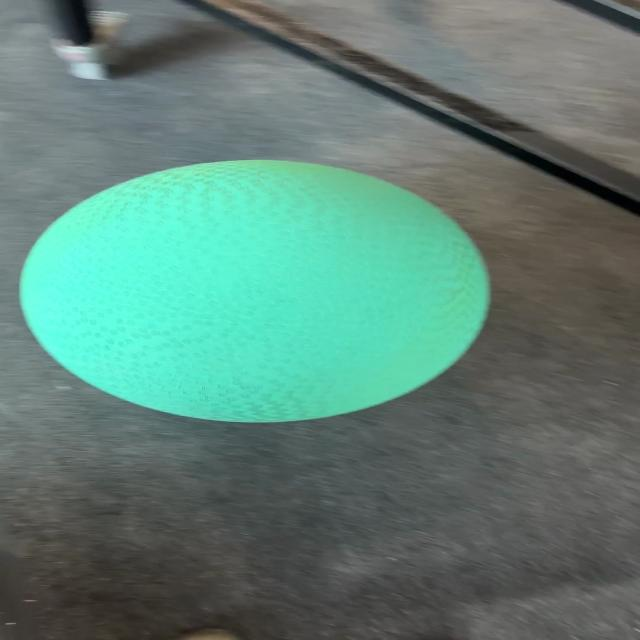Algae: (18, 158, 492, 424)
